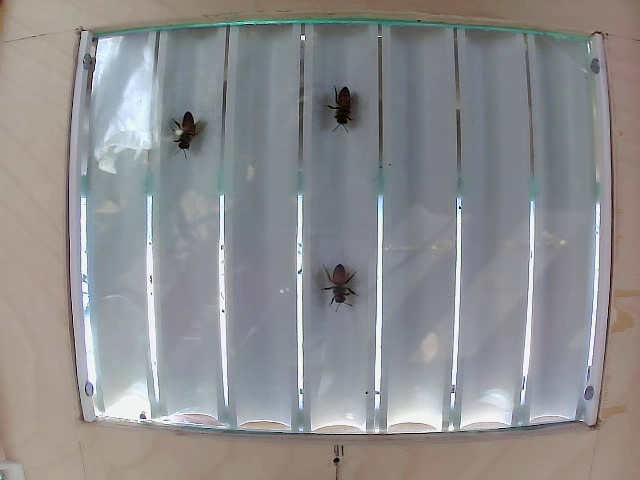bee: (328, 79, 368, 138), (320, 256, 356, 316), (169, 118, 203, 169)
